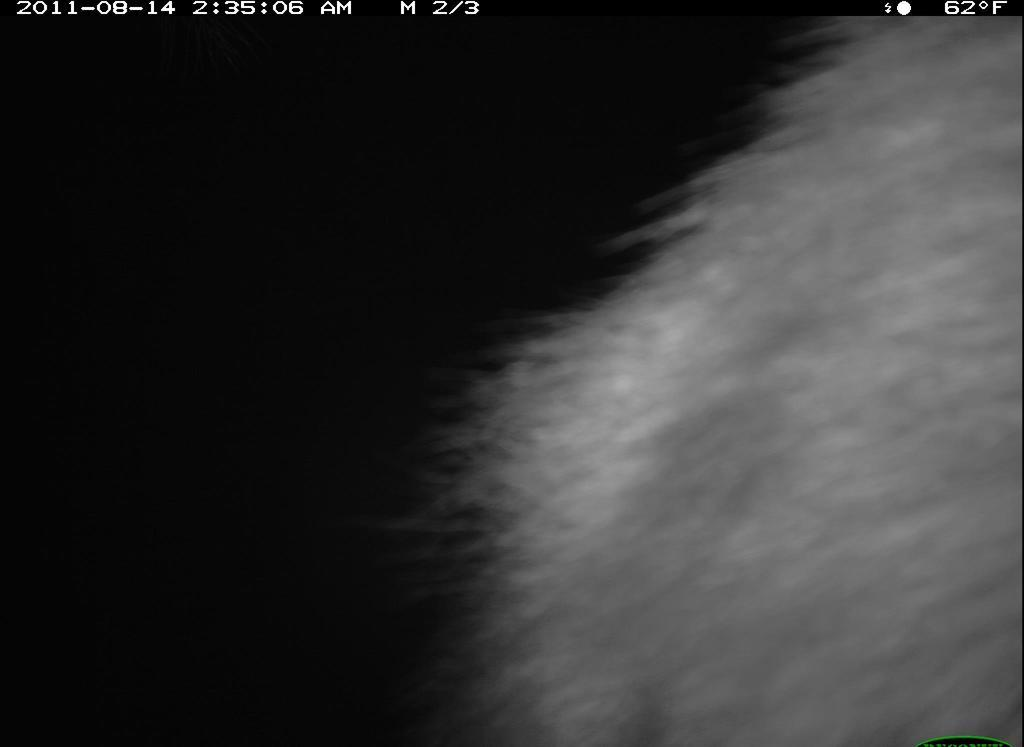raccoon: (392, 16, 1022, 747)
